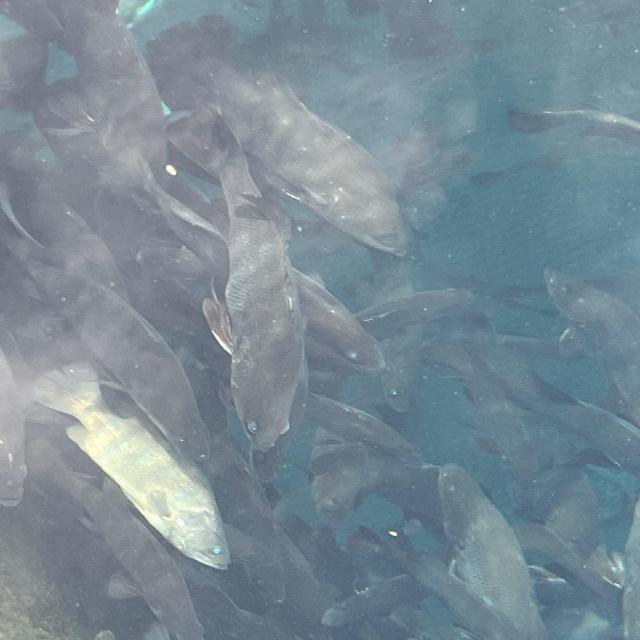ikan: (142, 13, 416, 261), (161, 105, 308, 452), (30, 362, 233, 572), (432, 462, 548, 638), (540, 263, 638, 427)
